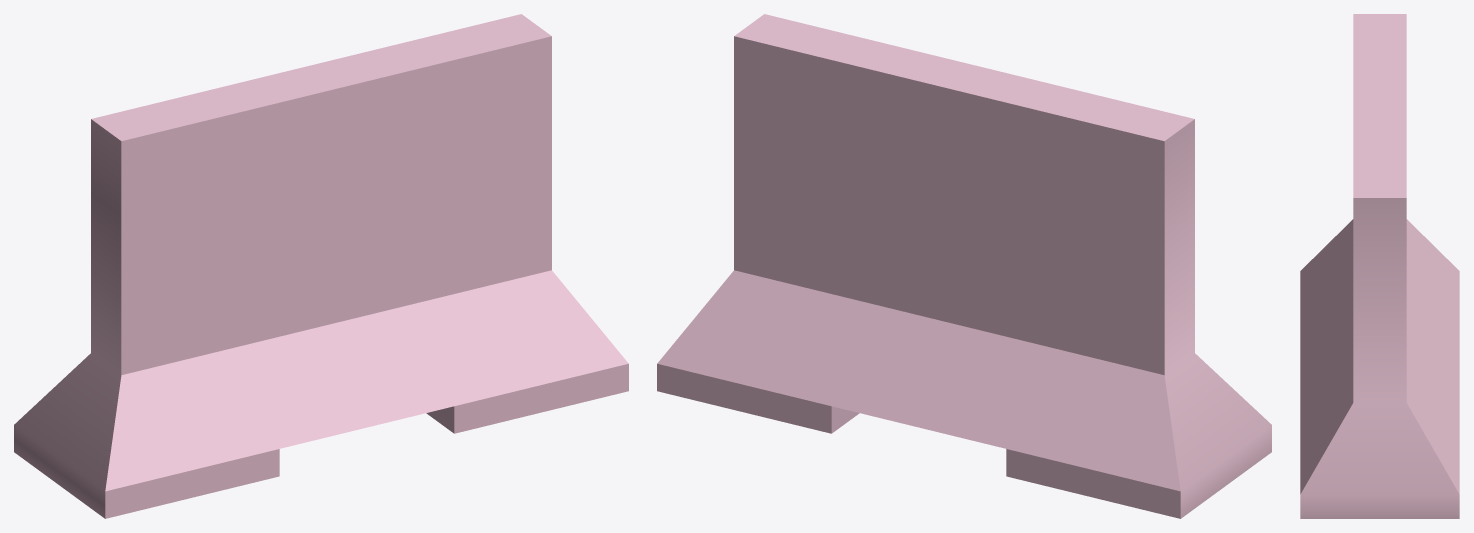
File: SM_Concreteblock_01.glb
3 views of the same model, side by side, from view 1: azimuth 30°, elevation 25°; view 2: azimuth 150°, elevation 25°; view 3: azimuth 270°, elevation 25° (orthographic). The views are drawn at different scales.
Parts seen in each view (by area): view 1: SM_Concreteblock_01; view 2: SM_Concreteblock_01; view 3: SM_Concreteblock_01.
Part boxes in pixels (x1,y1,x2,y2): SM_Concreteblock_01: (14,14,628,518); SM_Concreteblock_01: (657,14,1271,518); SM_Concreteblock_01: (1300,14,1459,518).
Size of the model in its own units: 2.09 by 1.31 by 0.629.
